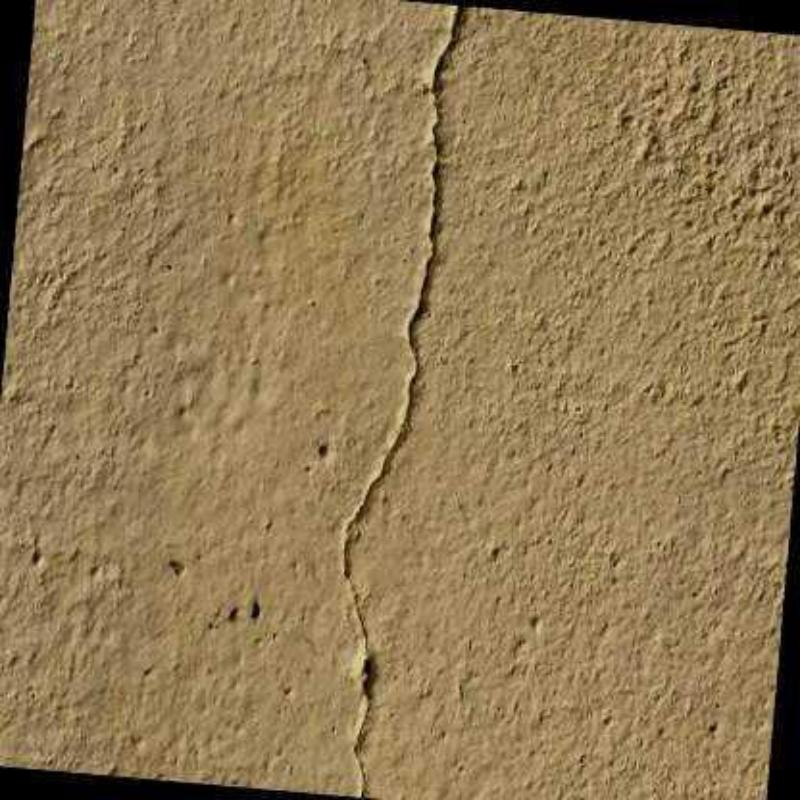pothole: (342, 5, 465, 800)
